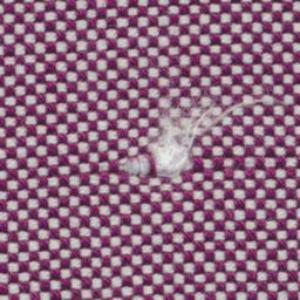fault: (103, 94, 262, 185)
